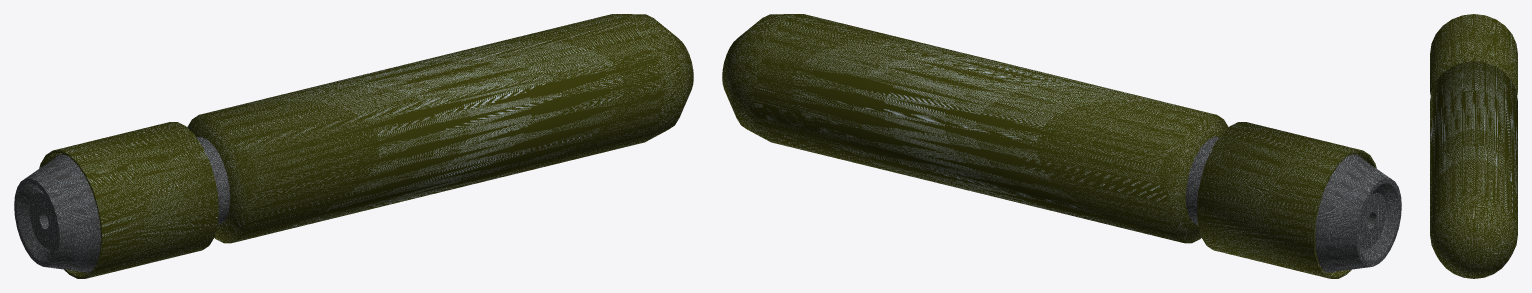
3 views of the same model, side by side, from view 1: azimuth 30°, elevation 25°; view 2: azimuth 150°, elevation 25°; view 3: azimuth 270°, elevation 25° (orthographic). The views are drawn at different scales.
Parts seen in each view (by area): view 1: SketchUp (×5); view 2: SketchUp (×5); view 3: SketchUp (×2).
Part boxes in pixels (<box>): SketchUp (×5): <box>14,14,693,278</box>; SketchUp (×5): <box>722,14,1401,278</box>; SketchUp (×2): <box>1430,14,1517,278</box>.
Bounding box in the file's own units: 50.56 × 9 × 9.
